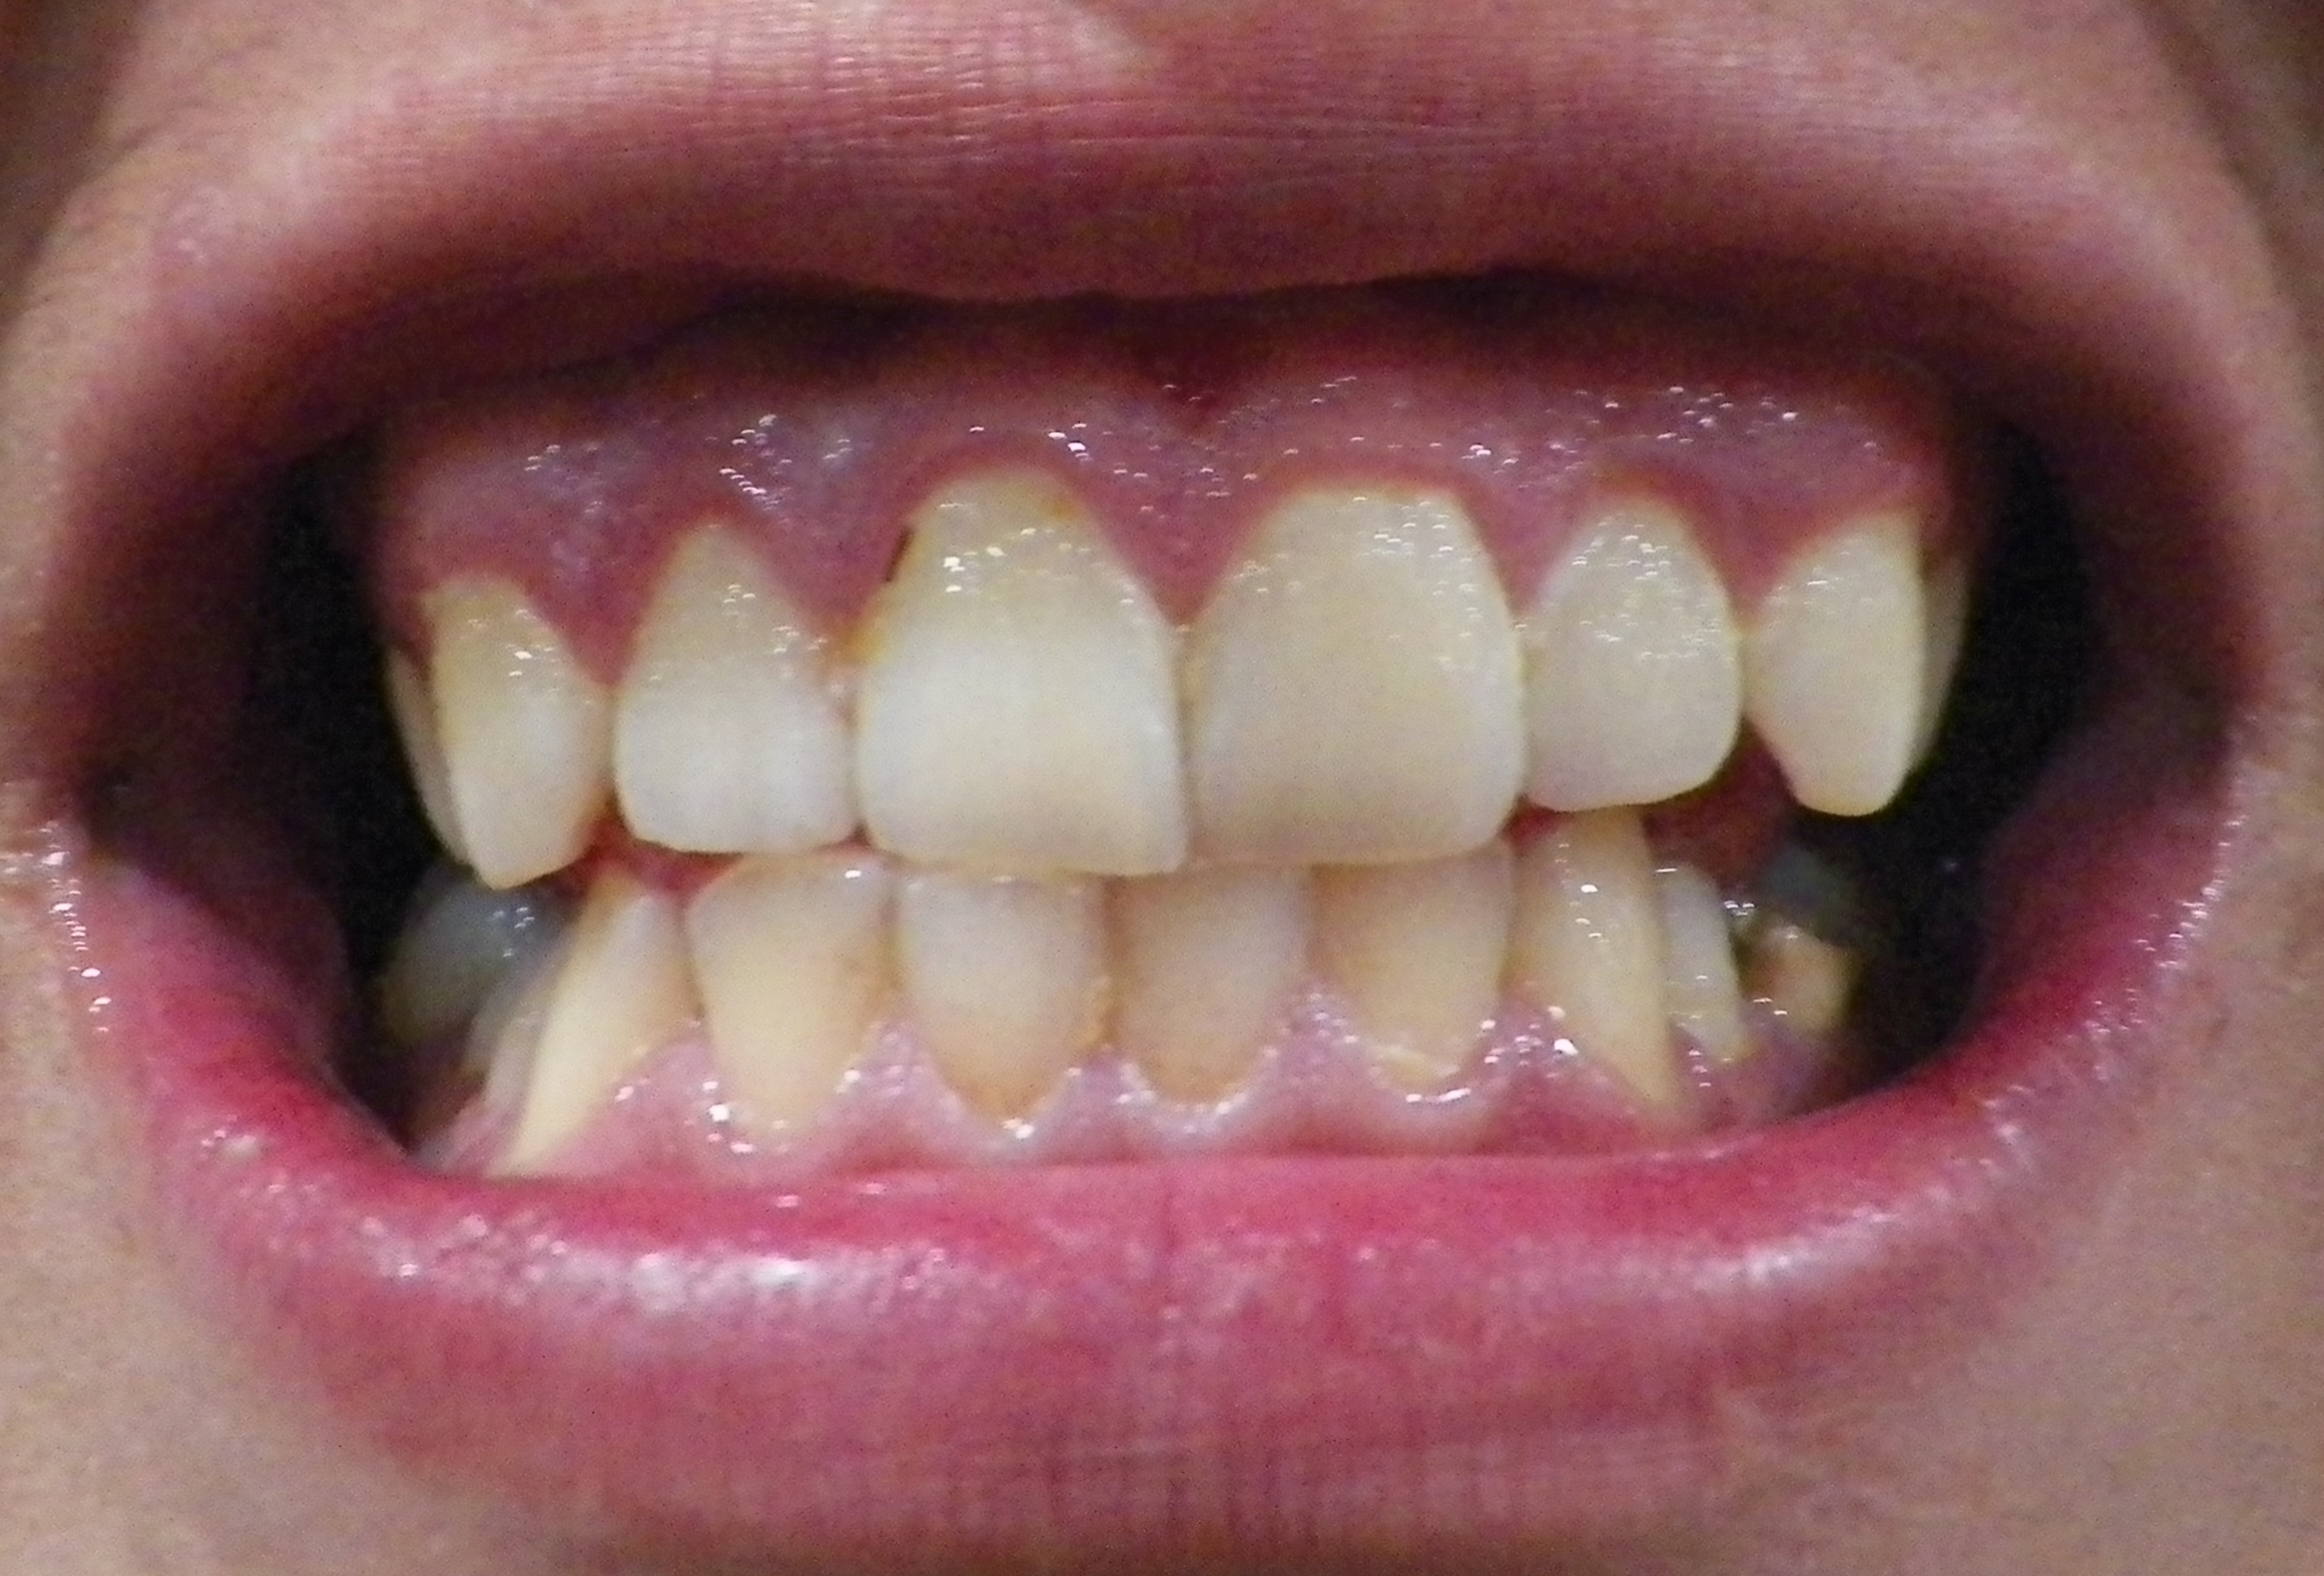boca: (380, 485, 1967, 1126)
